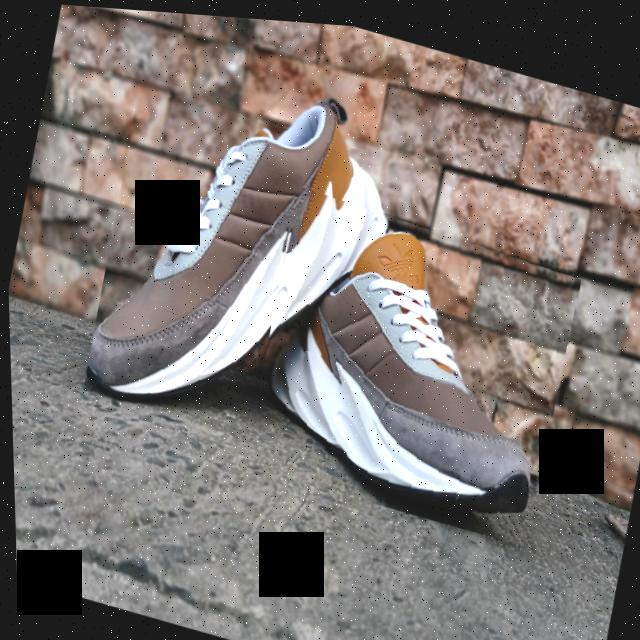shoe: (70, 43, 420, 477), (235, 177, 589, 544)
